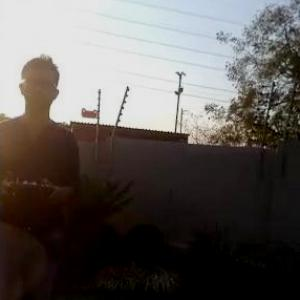follow: (0, 46, 83, 299)
